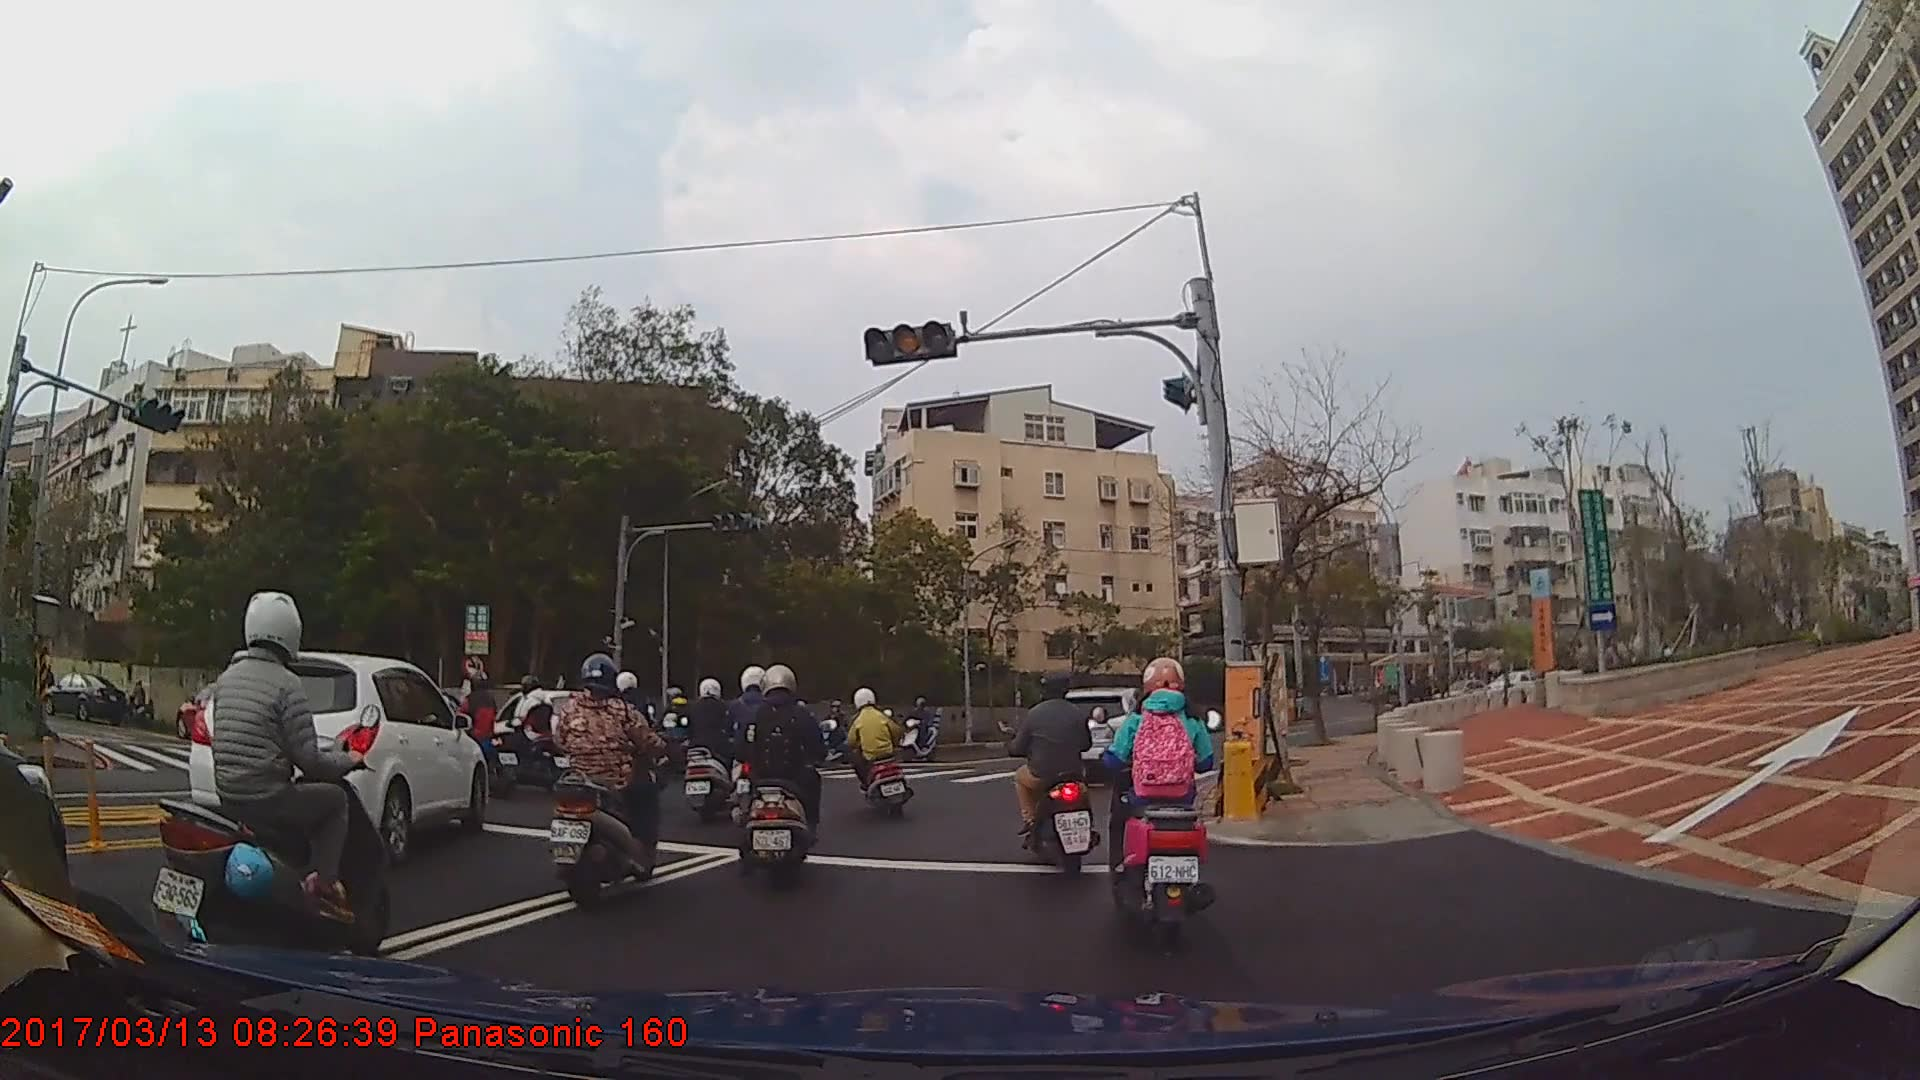rider: (155, 591, 401, 974), (1107, 648, 1217, 924), (548, 653, 667, 911), (1004, 665, 1104, 872), (737, 659, 825, 885), (838, 684, 917, 819), (441, 666, 523, 792), (675, 677, 744, 822), (493, 671, 560, 773), (896, 695, 941, 757), (817, 697, 854, 758)
vehicle: (185, 646, 486, 854), (173, 678, 275, 740), (38, 670, 130, 720)
